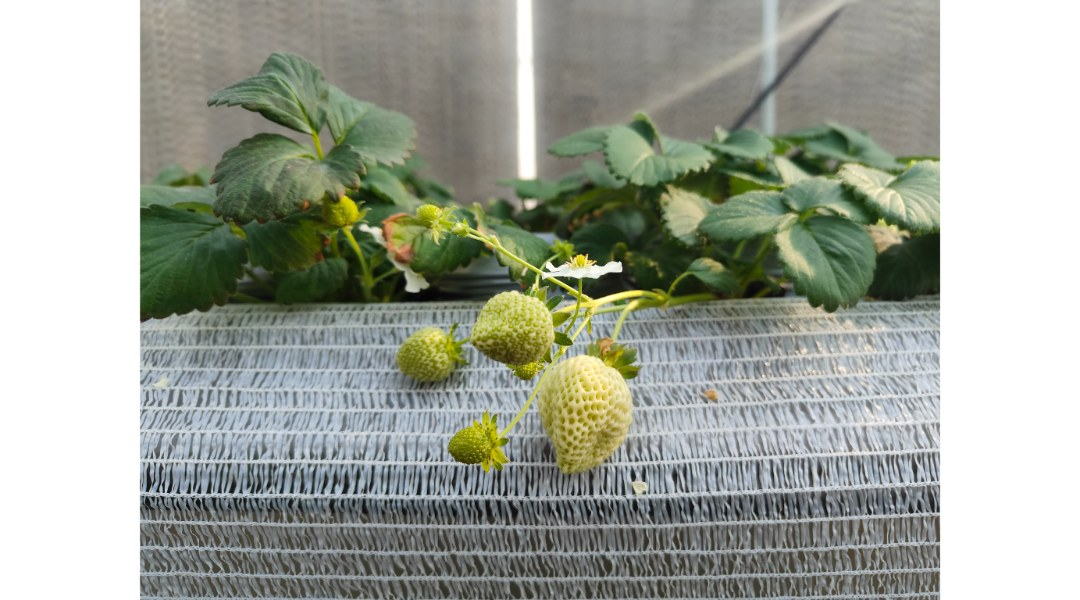berry: (539, 335, 643, 483), (466, 283, 552, 377), (386, 322, 471, 394), (436, 411, 507, 475)
flower: (531, 246, 638, 280)
